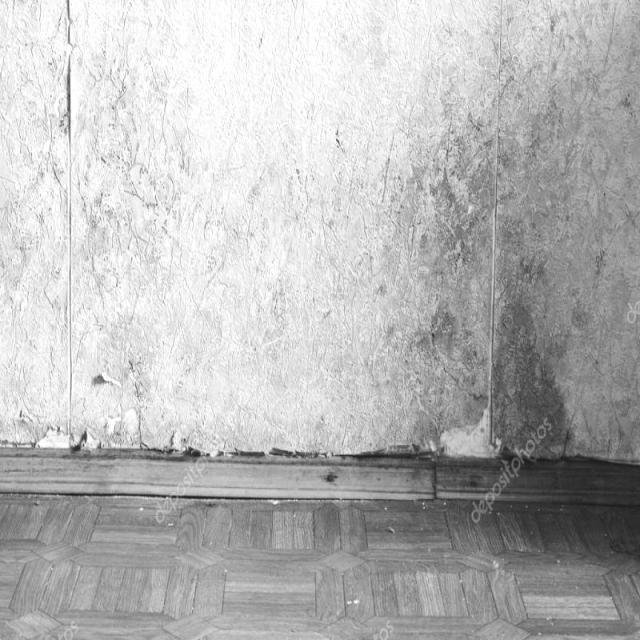stain marks: (377, 113, 608, 452)
